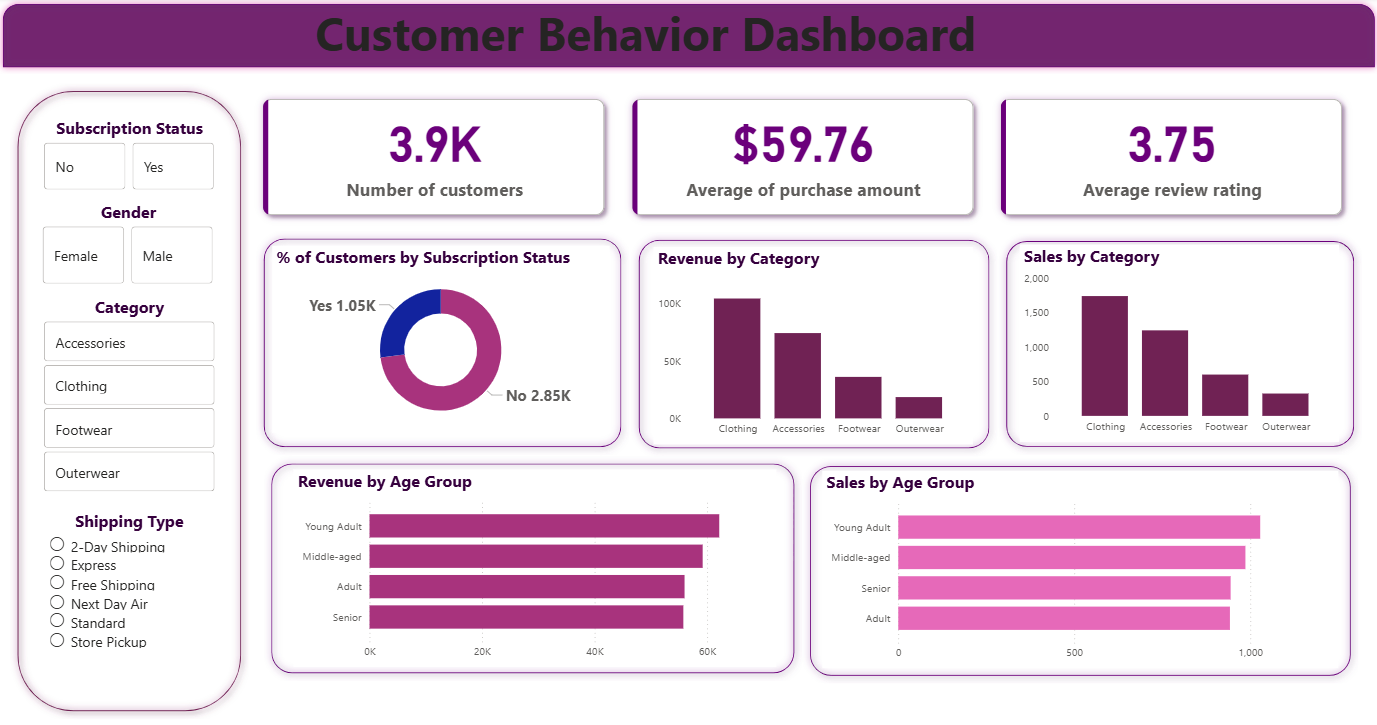

The dashboard page shown, as its layout file describes it:
{"tool":"powerbi","page":{"name":"Page 1","canvas":[1600,850],"ordinal":0},"visuals":[{"type":"cardVisual","fields":{"Data":["public customer.Number of customers","public customer.Average of purchase amount","public customer.Average review rating"]},"box":[291.6,101.2,1281.3,168.1],"z":0},{"type":"shape","box":[0,0,1600.3,89.2],"z":1000},{"type":"textbox","box":[138.3,0,1223.7,101.3],"z":2000},{"type":"shape","box":[300.9,270.3,431,258.9],"z":3000,"group":"g4"},{"type":"shape","box":[734,271.8,422.9,258.9],"z":4000,"group":"g3"},{"type":"shape","box":[1157.3,273.3,419.7,255.7],"z":5000,"group":"g2"},{"type":"donutChart","title":"% of Customers by Subscription Status","fields":{"Category":["public customer.subscription_status"],"Y":["CountNonNull(public customer.customer_id)"]},"box":[319.3,287,389.4,216.1],"z":6000,"group":"g4"},{"type":"clusteredColumnChart","title":"Revenue by Category","fields":{"Y":["Sum(public customer.purchase_amount)"],"Category":["public customer.category"]},"box":[760.6,288.5,368.8,228.1],"z":7000,"group":"g3"},{"type":"clusteredColumnChart","title":"Sales by Category","fields":{"Y":["CountNonNull(public customer.customer_id)"],"Category":["public customer.category"]},"box":[1181.6,286.8,368.8,228.1],"z":8000,"group":"g2"},{"type":"shape","box":[15.4,99.5,276.2,734.1],"z":9000},{"type":"advancedSlicerVisual","fields":{"Values":["public customer.subscription_status"]},"box":[50.1,137.9,207.5,89.2],"z":10000},{"type":"advancedSlicerVisual","fields":{"Values":["public customer.gender"]},"box":[49.4,235.5,207.8,101.7],"z":11000},{"type":"advancedSlicerVisual","title":"Category","fields":{"Values":["public customer.category"]},"box":[50.1,345.5,207.5,231.6],"z":11001},{"type":"listSlicer","fields":{"Values":["public customer.shipping_type"]},"box":[56.6,591.8,195.5,212.7],"z":11002},{"type":"shape","box":[309.6,530.5,622.1,260.2],"z":11003,"group":"g1"},{"type":"shape","box":[931.7,532,642.4,260.2],"z":11003},{"type":"clusteredBarChart","title":"Revenue by Age Group","fields":{"Y":["Sum(public customer.purchase_amount)"],"Category":["public customer.age_group"]},"box":[343.8,546.5,558,228.2],"z":11004,"group":"g1"},{"type":"group","id":"g1","title":"Group 1","box":[309.6,530.5,622.1,260.2],"z":11005},{"type":"group","id":"g2","title":"Group 2","box":[1157.3,273.3,420.1,255.8],"z":11006},{"type":"group","id":"g3","title":"Group 3","box":[734,271.8,423,258.7],"z":11007},{"type":"group","id":"g4","title":"Group 4","box":[300.9,270.3,430.2,258.7],"z":11008},{"type":"clusteredBarChart","title":"Sales by Age Group","fields":{"Y":["CountNonNull(public customer.customer_id)"],"Category":["public customer.age_group"]},"box":[954.9,546.5,595.9,228.2],"z":11009}]}

Visuals, with their boxes in screenshot pixels (x1, y1, x2, y2), scaled from the page's 1600x850 canvas onto the 1377x725 screenshot:
cardVisual - public customer.Number of customers x public customer.Average of purchase amount: locate(251, 86, 1354, 230)
shape: locate(0, 0, 1376, 76)
textbox: locate(119, 0, 1172, 86)
shape: locate(259, 231, 630, 451)
shape: locate(632, 232, 996, 453)
shape: locate(996, 233, 1357, 451)
"% of Customers by Subscription Status" donutChart: locate(275, 245, 610, 429)
"Revenue by Category" clusteredColumnChart: locate(655, 246, 972, 441)
"Sales by Category" clusteredColumnChart: locate(1017, 245, 1334, 439)
shape: locate(13, 85, 251, 711)
advancedSlicerVisual - public customer.subscription_status: locate(43, 118, 222, 194)
advancedSlicerVisual - public customer.gender: locate(43, 201, 221, 288)
"Category" advancedSlicerVisual: locate(43, 295, 222, 492)
listSlicer - public customer.shipping_type: locate(49, 505, 217, 686)
shape: locate(266, 452, 802, 674)
shape: locate(802, 454, 1355, 676)
"Revenue by Age Group" clusteredBarChart: locate(296, 466, 776, 661)
"Group 1" group: locate(266, 452, 802, 674)
"Group 2" group: locate(996, 233, 1358, 451)
"Group 3" group: locate(632, 232, 996, 452)
"Group 4" group: locate(259, 231, 629, 451)
"Sales by Age Group" clusteredBarChart: locate(822, 466, 1335, 661)
